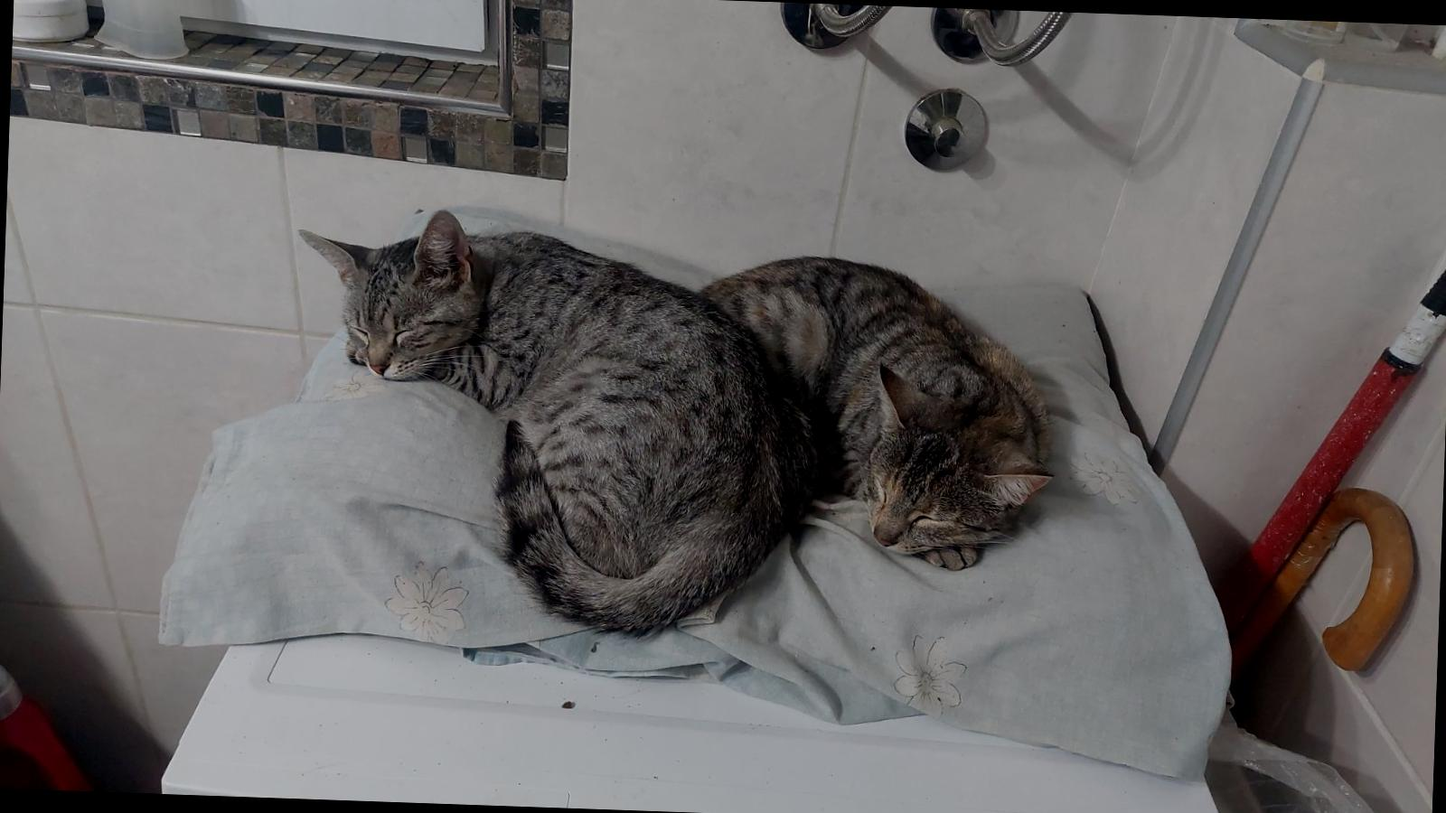macka: (287, 202, 827, 640), (688, 251, 1052, 577)
